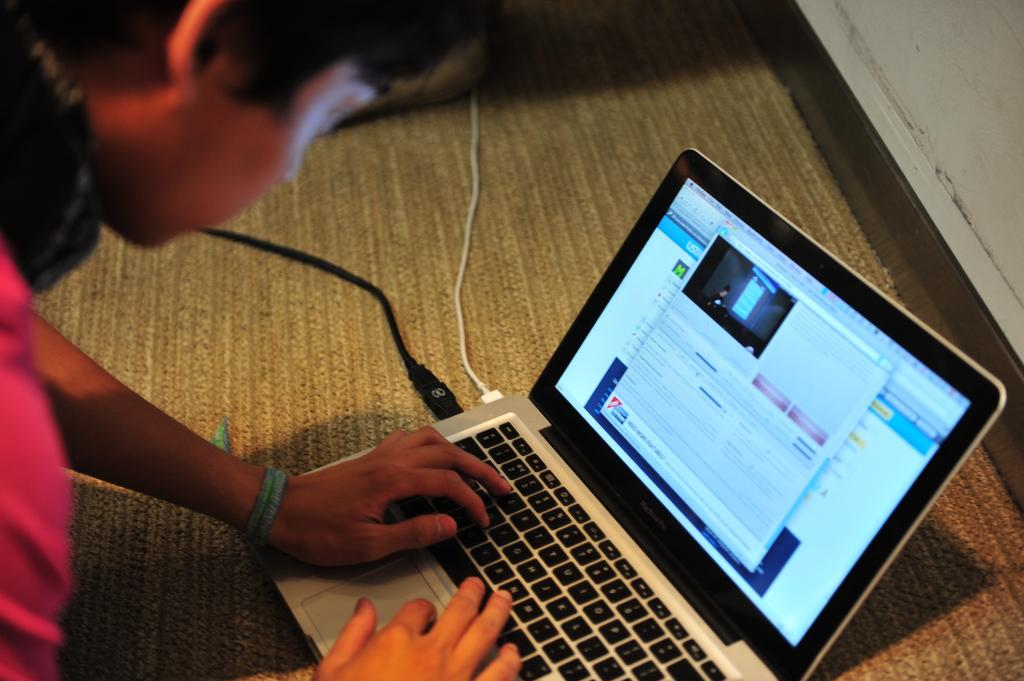Computer-keyboard: (394, 413, 735, 680)
Laptop: (253, 163, 982, 679)
